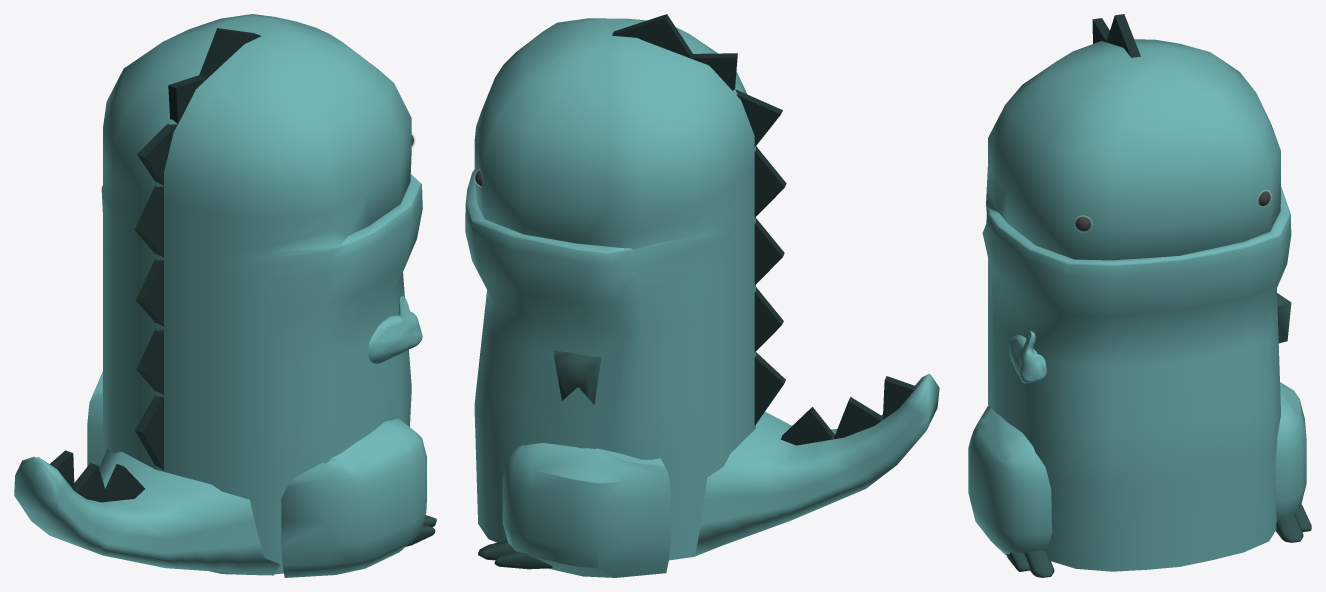
The model's file is asset.glb.
The picture shows the model from 3 angles, left to right: view 1: azimuth 30°, elevation 25°; view 2: azimuth 150°, elevation 25°; view 3: azimuth 270°, elevation 25°; orthographic projection. The views are drawn at different scales.
Visible parts, largest first — view 1: Cube.236, Cube.234, Cube.235, Icosphere.036, Cube.227, Cube.230, Cube.233, Cube.213, Cube.231, Cube.229, Cube.228, Cube.224 (+2 smaller); view 2: Cube.236, Cube.213, Cube.234, Cube.214, Cube.233, Cube.230, Cube.227, Cube.224, Cube.231, Cube.229, Cube.225, Cube.228 (+3 smaller); view 3: Cube.236, Cube.235, Cube.213, Icosphere.036, Cube.233, Cube.223, Cube.221, Cube.214.
Boxes of the visible parts, x1=… form: Cube.236: x1=101, y1=14, x2=422, y2=575; Cube.234: x1=14, y1=448, x2=280, y2=575; Cube.235: x1=281, y1=418, x2=426, y2=577; Icosphere.036: x1=368, y1=296, x2=422, y2=363; Cube.227: x1=135, y1=395, x2=163, y2=469; Cube.230: x1=134, y1=185, x2=163, y2=257; Cube.233: x1=199, y1=28, x2=261, y2=77; Cube.213: x1=87, y1=371, x2=103, y2=467; Cube.231: x1=137, y1=123, x2=177, y2=185; Cube.229: x1=136, y1=259, x2=163, y2=326; Cube.228: x1=136, y1=329, x2=163, y2=394; Cube.224: x1=105, y1=464, x2=144, y2=501; Cube.236: x1=465, y1=18, x2=755, y2=560; Cube.213: x1=502, y1=443, x2=670, y2=577; Cube.234: x1=695, y1=373, x2=939, y2=555; Cube.214: x1=553, y1=350, x2=601, y2=404; Cube.233: x1=612, y1=14, x2=692, y2=58; Cube.230: x1=754, y1=146, x2=786, y2=217; Cube.227: x1=754, y1=352, x2=785, y2=425; Cube.224: x1=780, y1=407, x2=834, y2=445; Cube.231: x1=735, y1=89, x2=782, y2=147; Cube.229: x1=754, y1=218, x2=784, y2=285; Cube.225: x1=833, y1=397, x2=882, y2=439; Cube.228: x1=754, y1=287, x2=783, y2=352; Cube.236: x1=982, y1=39, x2=1291, y2=571; Cube.235: x1=968, y1=406, x2=1052, y2=554; Cube.213: x1=1275, y1=382, x2=1306, y2=519; Icosphere.036: x1=1009, y1=331, x2=1046, y2=383; Cube.233: x1=1106, y1=14, x2=1140, y2=57; Cube.223: x1=1024, y1=550, x2=1054, y2=577; Cube.221: x1=1275, y1=514, x2=1303, y2=542; Cube.214: x1=1277, y1=293, x2=1291, y2=343.
Size of the model in its own units: 1.48 by 1.73 by 1.11.
